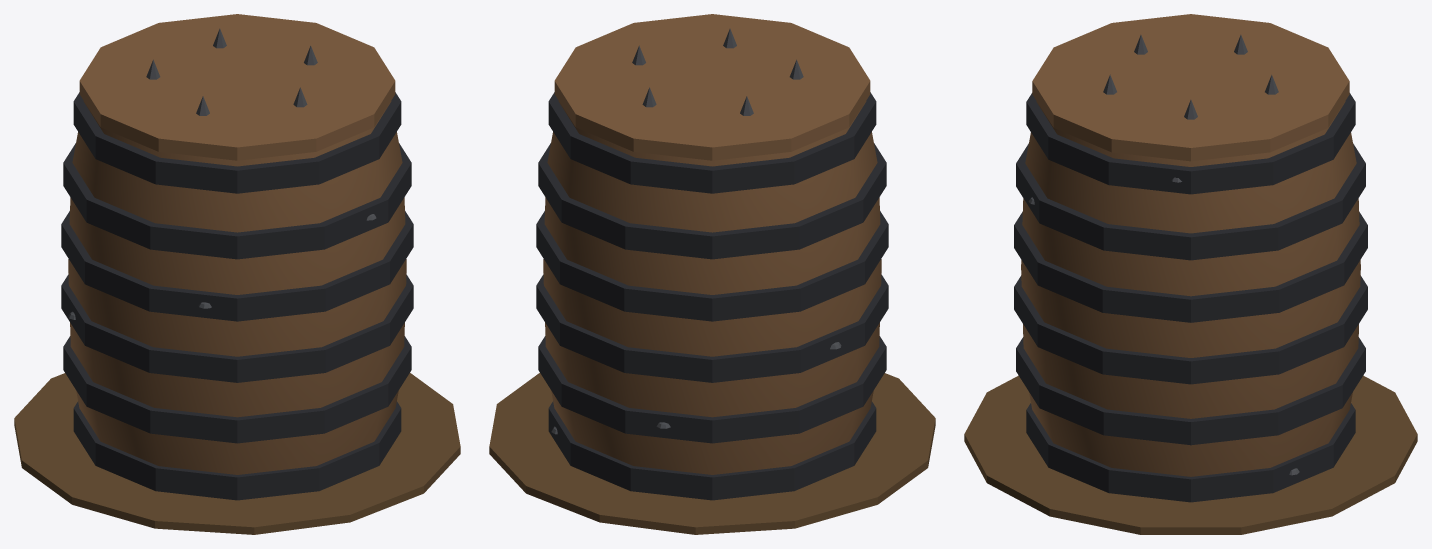
File: SM_Barrel_Keep_03_Closed.glb
The picture shows the model from 3 angles, left to right: view 1: azimuth 30°, elevation 25°; view 2: azimuth 150°, elevation 25°; view 3: azimuth 270°, elevation 25°; orthographic projection.
Visible parts, largest first — view 1: SM_Barrel_Keep_03_Closed_Body, SM_Barrel_Keep_03_Closed_Lid, SM_Barrel_Keep_03_Closed_DirtRing, SM_Barrel_Keep_03_Closed_Band4, SM_Barrel_Keep_03_Closed_Band3, SM_Barrel_Keep_03_Closed_Band2, SM_Barrel_Keep_03_Closed_Band1, SM_Barrel_Keep_03_Closed_Band5, SM_Barrel_Keep_03_Closed_Band0; view 2: SM_Barrel_Keep_03_Closed_Body, SM_Barrel_Keep_03_Closed_Lid, SM_Barrel_Keep_03_Closed_DirtRing, SM_Barrel_Keep_03_Closed_Band4, SM_Barrel_Keep_03_Closed_Band3, SM_Barrel_Keep_03_Closed_Band2, SM_Barrel_Keep_03_Closed_Band1, SM_Barrel_Keep_03_Closed_Band5, SM_Barrel_Keep_03_Closed_Band0; view 3: SM_Barrel_Keep_03_Closed_Body, SM_Barrel_Keep_03_Closed_Lid, SM_Barrel_Keep_03_Closed_DirtRing, SM_Barrel_Keep_03_Closed_Band4, SM_Barrel_Keep_03_Closed_Band3, SM_Barrel_Keep_03_Closed_Band2, SM_Barrel_Keep_03_Closed_Band1, SM_Barrel_Keep_03_Closed_Band5, SM_Barrel_Keep_03_Closed_Band0.
Part boxes in pixels (x1,y1,x2,y2): SM_Barrel_Keep_03_Closed_Body: (68,101,406,474); SM_Barrel_Keep_03_Closed_Lid: (79,14,395,160); SM_Barrel_Keep_03_Closed_DirtRing: (14,373,460,534); SM_Barrel_Keep_03_Closed_Band4: (63,143,411,259); SM_Barrel_Keep_03_Closed_Band3: (61,211,413,321); SM_Barrel_Keep_03_Closed_Band2: (61,274,413,382); SM_Barrel_Keep_03_Closed_Band1: (63,336,411,443); SM_Barrel_Keep_03_Closed_Band5: (73,92,401,193); SM_Barrel_Keep_03_Closed_Band0: (73,401,401,500); SM_Barrel_Keep_03_Closed_Body: (543,101,881,474); SM_Barrel_Keep_03_Closed_Lid: (554,14,870,160); SM_Barrel_Keep_03_Closed_DirtRing: (489,373,935,534); SM_Barrel_Keep_03_Closed_Band4: (538,143,886,259); SM_Barrel_Keep_03_Closed_Band3: (536,211,888,321); SM_Barrel_Keep_03_Closed_Band2: (536,274,888,382); SM_Barrel_Keep_03_Closed_Band1: (538,336,886,443); SM_Barrel_Keep_03_Closed_Band5: (548,92,876,193); SM_Barrel_Keep_03_Closed_Band0: (548,401,876,500); SM_Barrel_Keep_03_Closed_Body: (1021,101,1360,476); SM_Barrel_Keep_03_Closed_Lid: (1032,14,1349,161); SM_Barrel_Keep_03_Closed_DirtRing: (964,375,1417,534); SM_Barrel_Keep_03_Closed_Band4: (1016,143,1365,260); SM_Barrel_Keep_03_Closed_Band3: (1014,212,1367,322); SM_Barrel_Keep_03_Closed_Band2: (1014,275,1367,384); SM_Barrel_Keep_03_Closed_Band1: (1016,337,1365,445); SM_Barrel_Keep_03_Closed_Band5: (1026,93,1355,194); SM_Barrel_Keep_03_Closed_Band0: (1026,403,1355,502).
Size of the model in its own units: 0.7799 by 0.7375 by 0.8.
